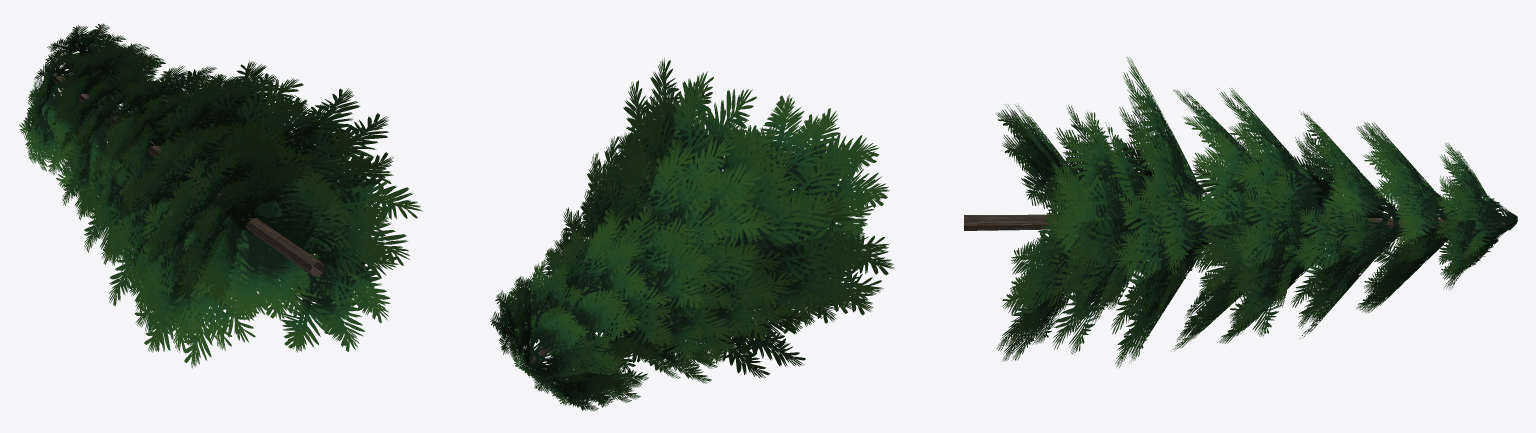
The model's file is Pine.fbx.
3 renders of one model, left to right at view 1: azimuth 30°, elevation 25°; view 2: azimuth 150°, elevation 25°; view 3: azimuth 270°, elevation 25°, orthographic. The views are drawn at different scales.
Visible parts, largest first — view 1: pine_tree_LOD0; view 2: pine_tree_LOD0; view 3: pine_tree_LOD0.
Boxes of the visible parts, x1,y1,x2,y2 form: pine_tree_LOD0: (19, 23, 422, 368); pine_tree_LOD0: (490, 58, 894, 411); pine_tree_LOD0: (964, 57, 1517, 367).
Size of what is drawn, in the model's own units: 427 by 403 by 581.
2 materials, 2 textured.
